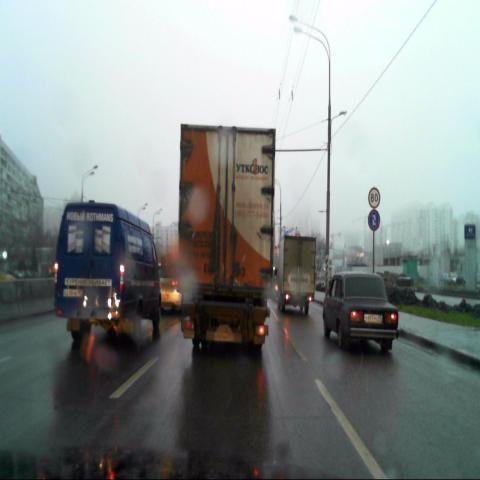3_30: (368, 210, 380, 232)
